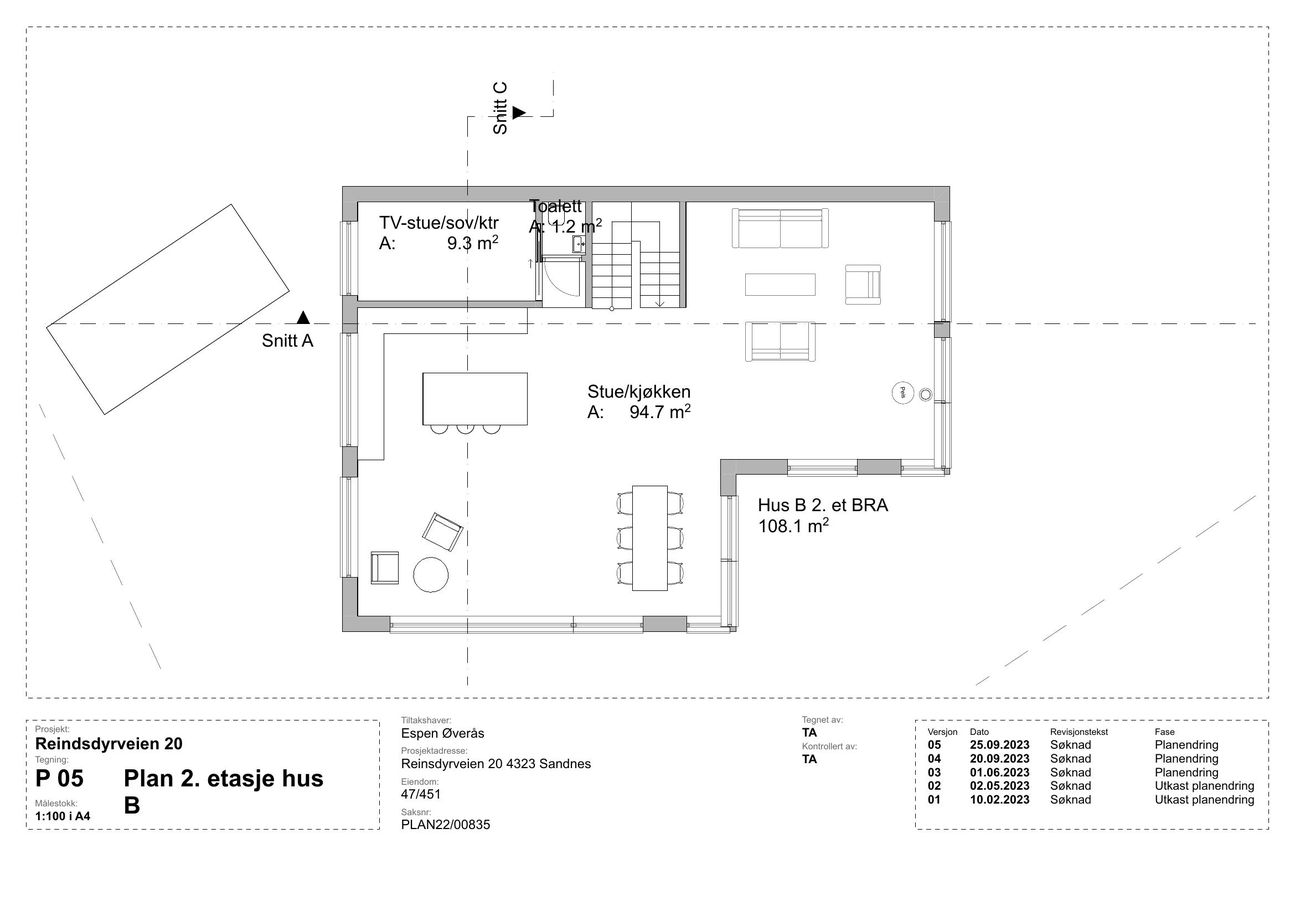plantegning: (337, 182, 958, 637)
